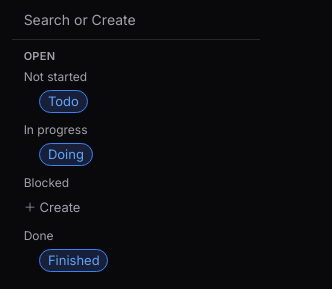
LabelMenu › test a new status label opens with its name selected, so typing replaces "New status" (M32)
Later steps or results of the test are not shown.
Click the button "Create" at (136, 207), box [16, 194, 256, 221]
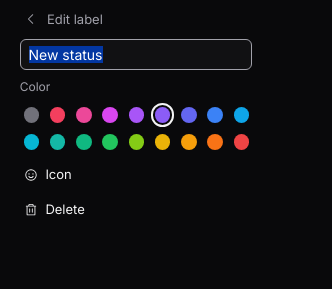
Check: the field named "Label name" holds "New status", box [20, 39, 252, 70]
